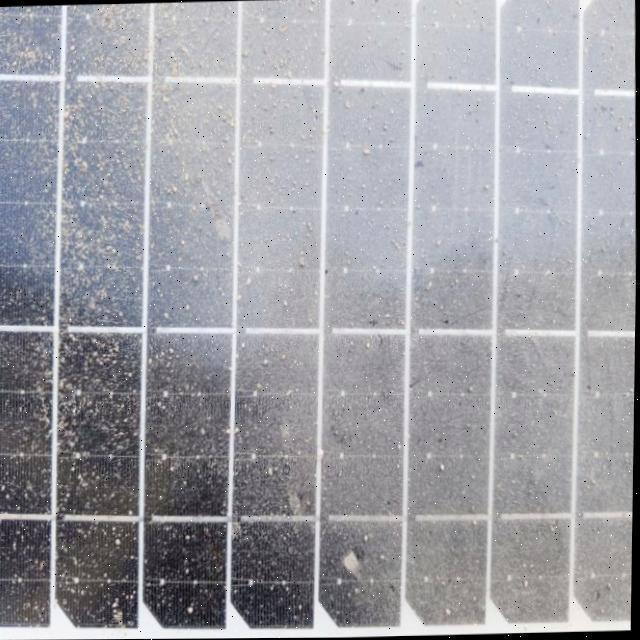Anomaly Solar Panel: (0, 0, 640, 630)
Surface Contaminant: (0, 17, 586, 640)
